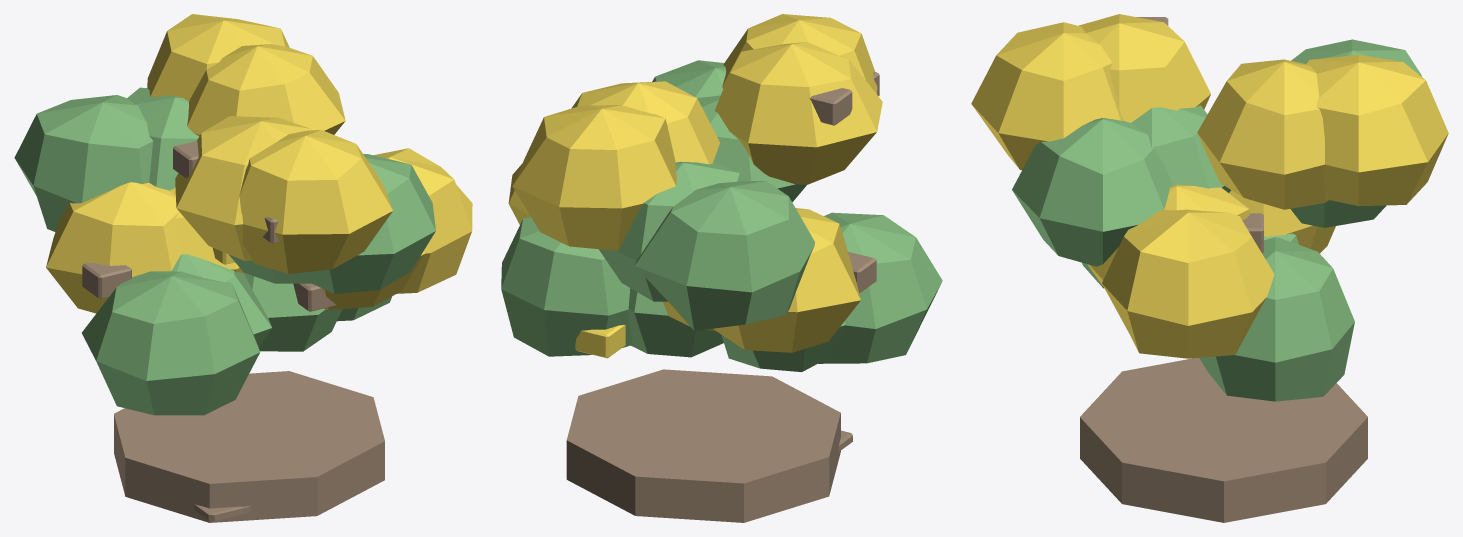
The model's file is b08_forsythia.glb.
3 renders of one model, left to right at view 1: azimuth 30°, elevation 25°; view 2: azimuth 150°, elevation 25°; view 3: azimuth 270°, elevation 25°, orthographic. The views are drawn at different scales.
Parts seen in each view (by area): view 1: b08_forsythia; view 2: b08_forsythia; view 3: b08_forsythia.
Part boxes in pixels (x1,y1,x2,y2): b08_forsythia: (14, 14, 472, 522); b08_forsythia: (501, 14, 942, 522); b08_forsythia: (971, 14, 1448, 522).
Bounding box in the file's own units: 1.85 × 1.76 × 1.83.
